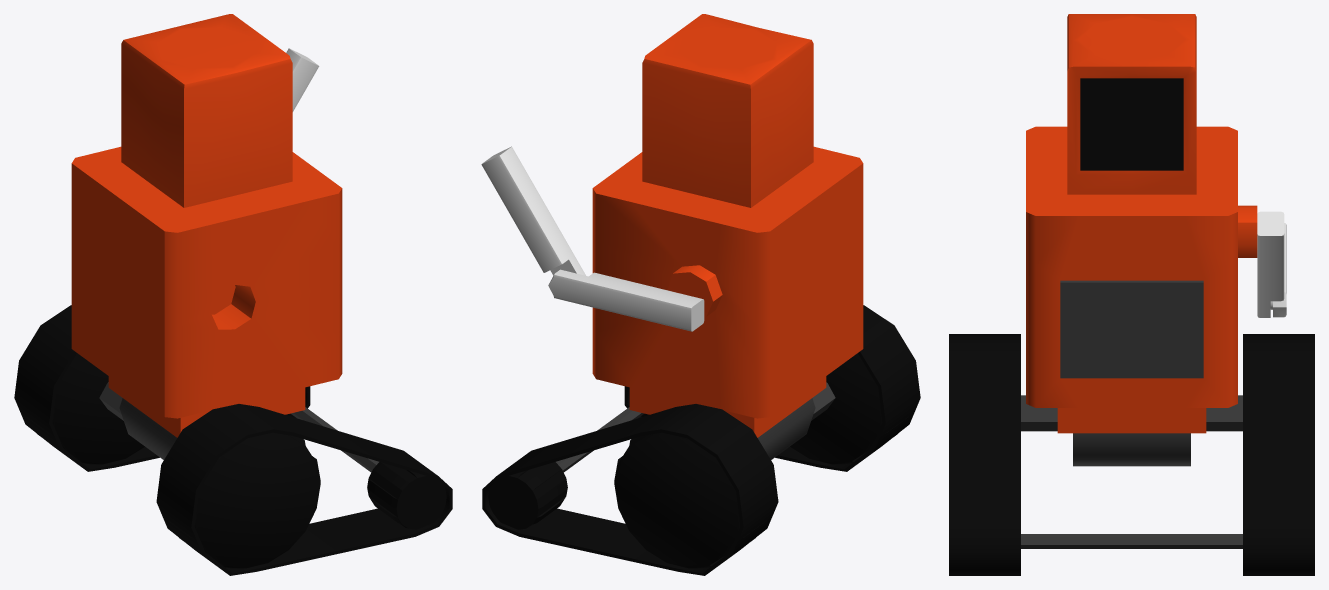
Rendered from Player_Placeholder_AlexanderBernada_2021_07_14.fbx.
3 views of the same model, side by side, from view 1: azimuth 30°, elevation 25°; view 2: azimuth 150°, elevation 25°; view 3: azimuth 270°, elevation 25° (orthographic). The views are drawn at different scales.
Visible parts, largest first — view 1: body, track_L, track_R, motor, arm, axle1; view 2: body, track_R, track_L, arm, motor, axle1; view 3: body, track_L, track_R, motor, axle1, arm, axle2.
Boxes of the visible parts, bbox=[...] form: body: bbox=[71, 14, 342, 437]; track_L: bbox=[156, 404, 452, 575]; track_R: bbox=[14, 305, 310, 471]; motor: bbox=[119, 398, 177, 459]; arm: bbox=[286, 48, 319, 111]; axle1: bbox=[291, 407, 378, 472]; body: bbox=[592, 14, 863, 437]; track_R: bbox=[482, 404, 778, 575]; track_L: bbox=[624, 305, 920, 471]; arm: bbox=[481, 146, 704, 331]; motor: bbox=[758, 398, 815, 459]; axle1: bbox=[556, 407, 643, 472]; body: bbox=[1026, 14, 1257, 433]; track_L: bbox=[949, 334, 1020, 575]; track_R: bbox=[1243, 334, 1314, 575]; motor: bbox=[1073, 433, 1190, 466]; axle1: bbox=[1021, 534, 1242, 548]; arm: bbox=[1257, 211, 1286, 317]; axle2: bbox=[1021, 395, 1242, 431].
Bounding box in the file's own units: 78.35 × 122 × 86.39.
